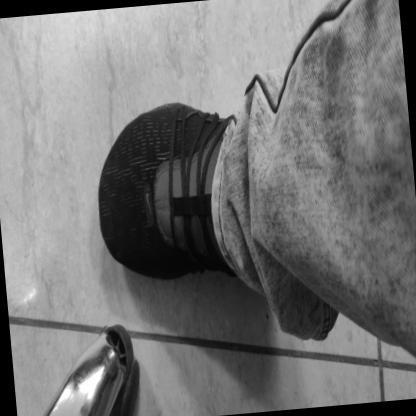ankle: (207, 199, 213, 209)
heel: (242, 258, 248, 268)
pinky: (127, 126, 132, 135)
right_foot: (91, 95, 264, 286)
toe: (117, 250, 122, 258)
